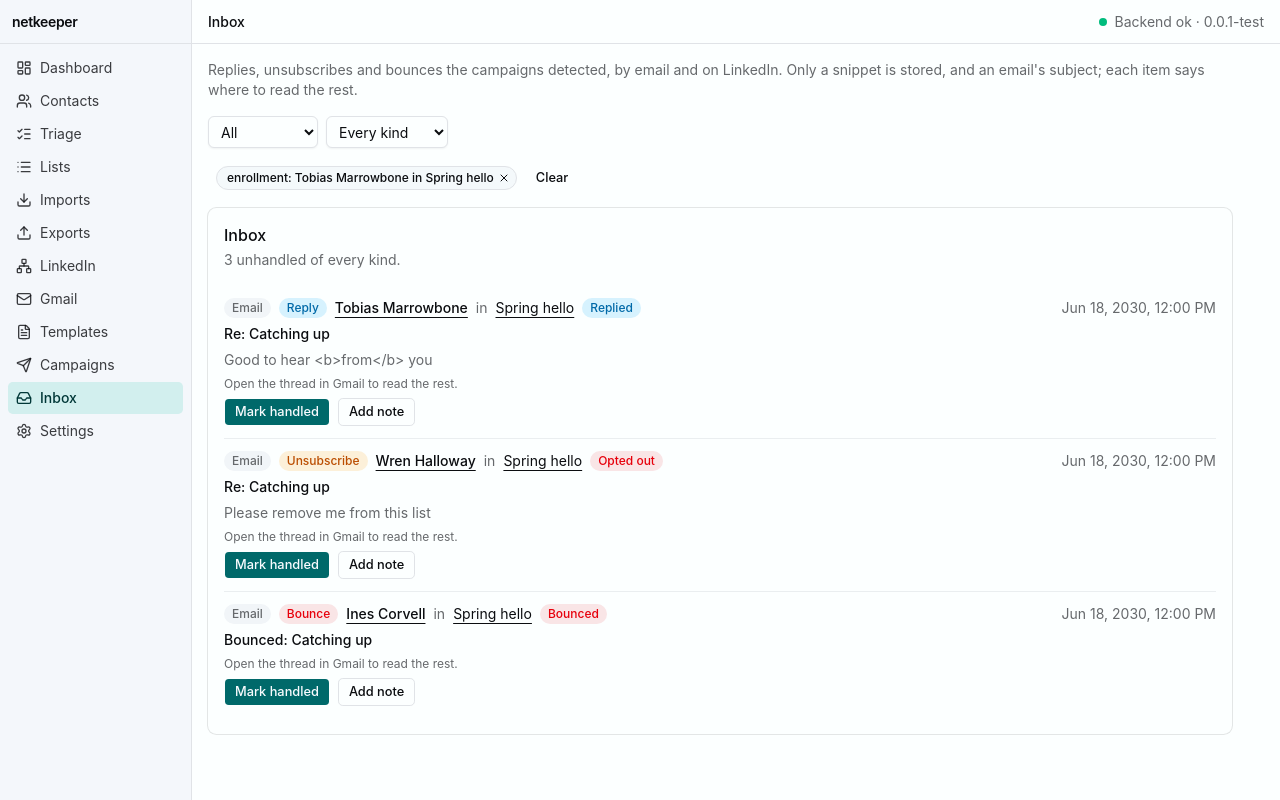
Test: inbox › starts afresh from the sidebar link, whatever the enrollment view had
Check: the navigation bar named "Primary" is shown, box [0,44,191,455]
Check: the list item with aria-label "Reply from Tobias" is shown, box [224,286,1216,438]
Step 1. Select "Bounce" in the dropdown named "Kind" → [387, 132], box [326,116,448,148]
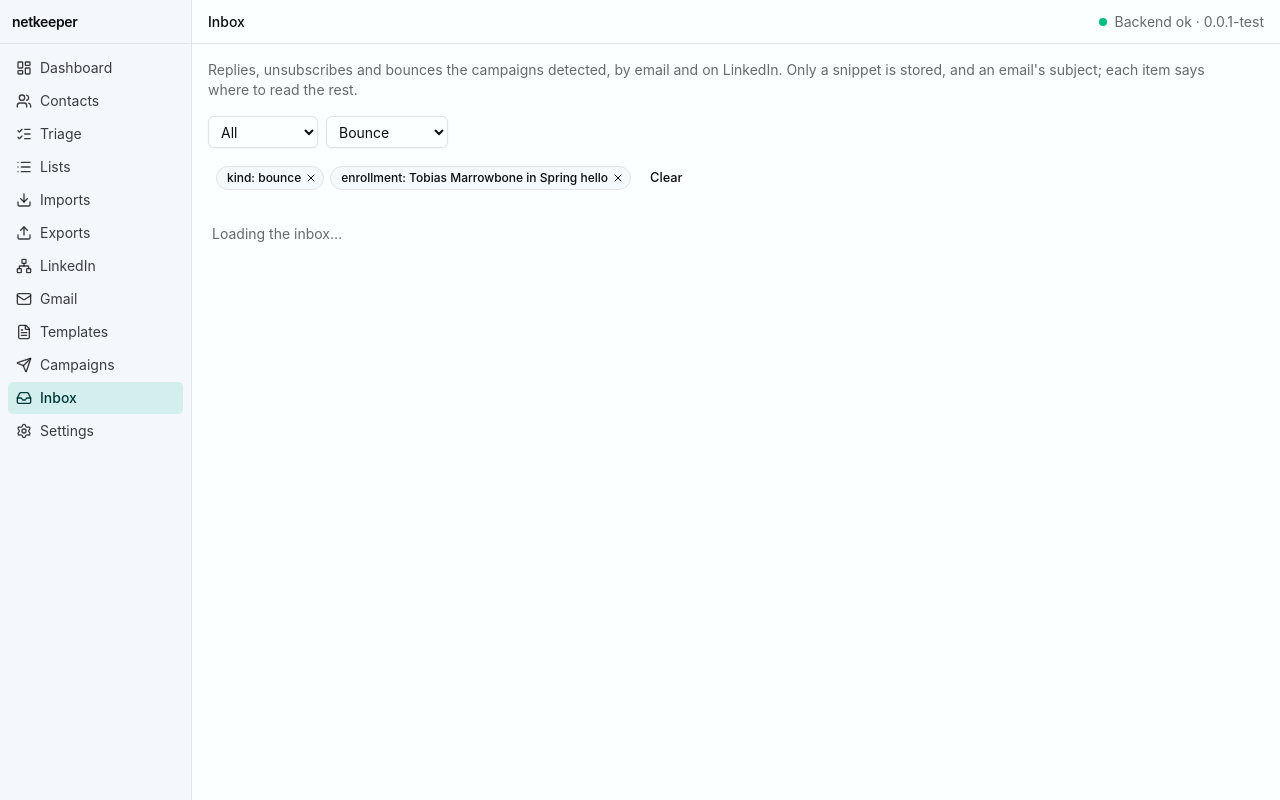
Step 2. Click the link "Inbox" → [96, 398], box [8,382,183,414]
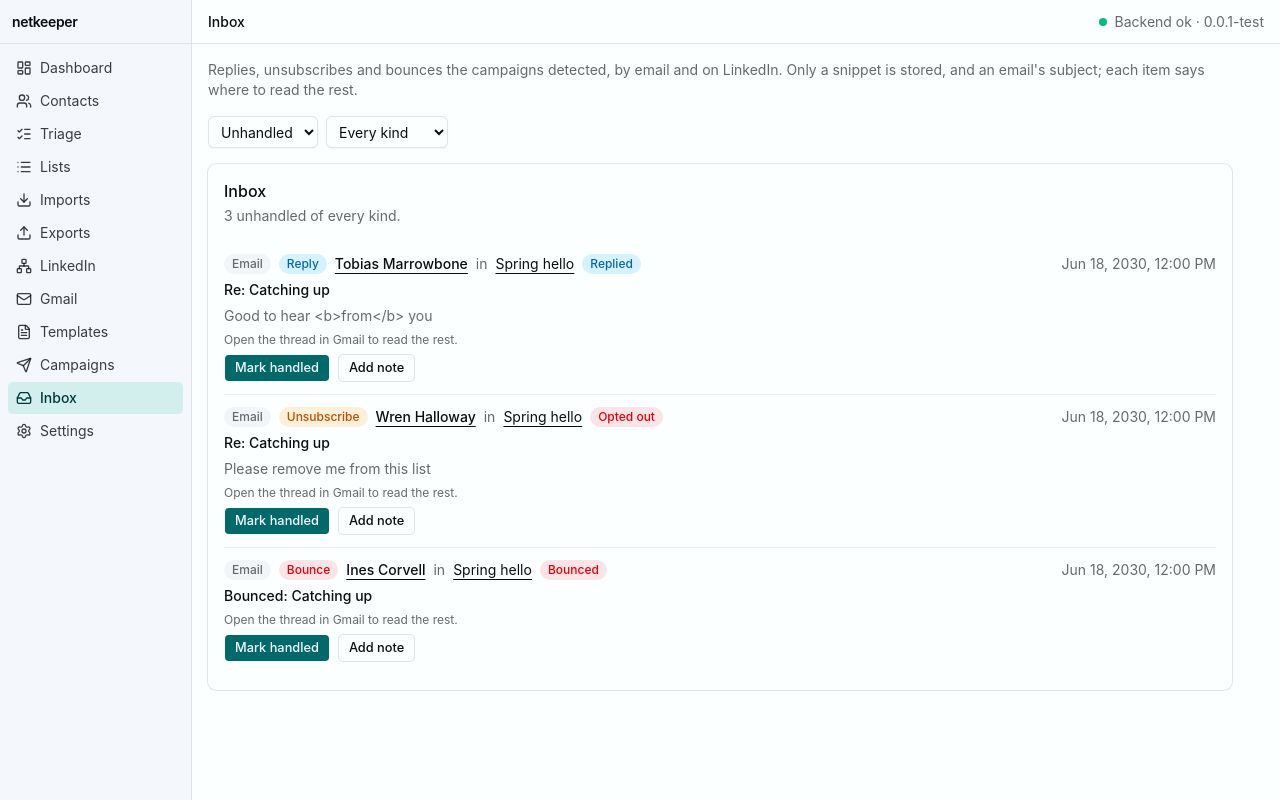
Check: the dropdown named "Show" shows "Unhandled", box [208,116,318,148]
